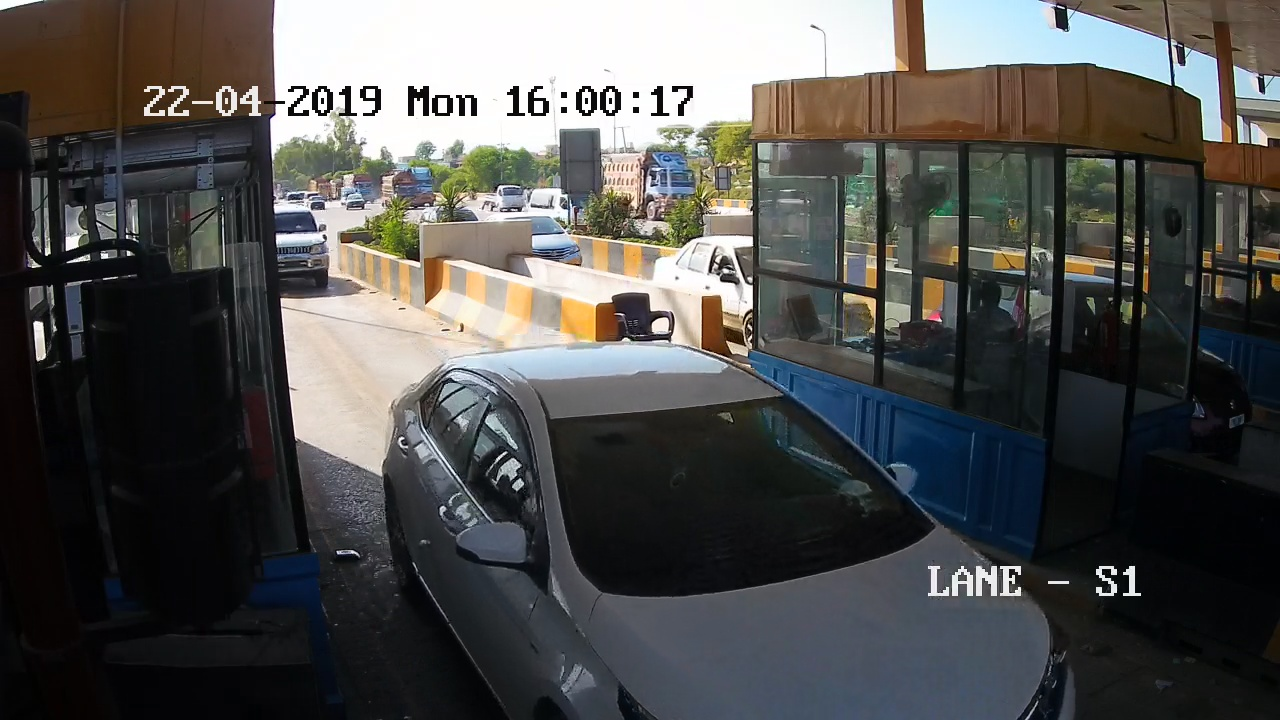car: (371, 339, 1091, 720), (269, 204, 334, 294)
